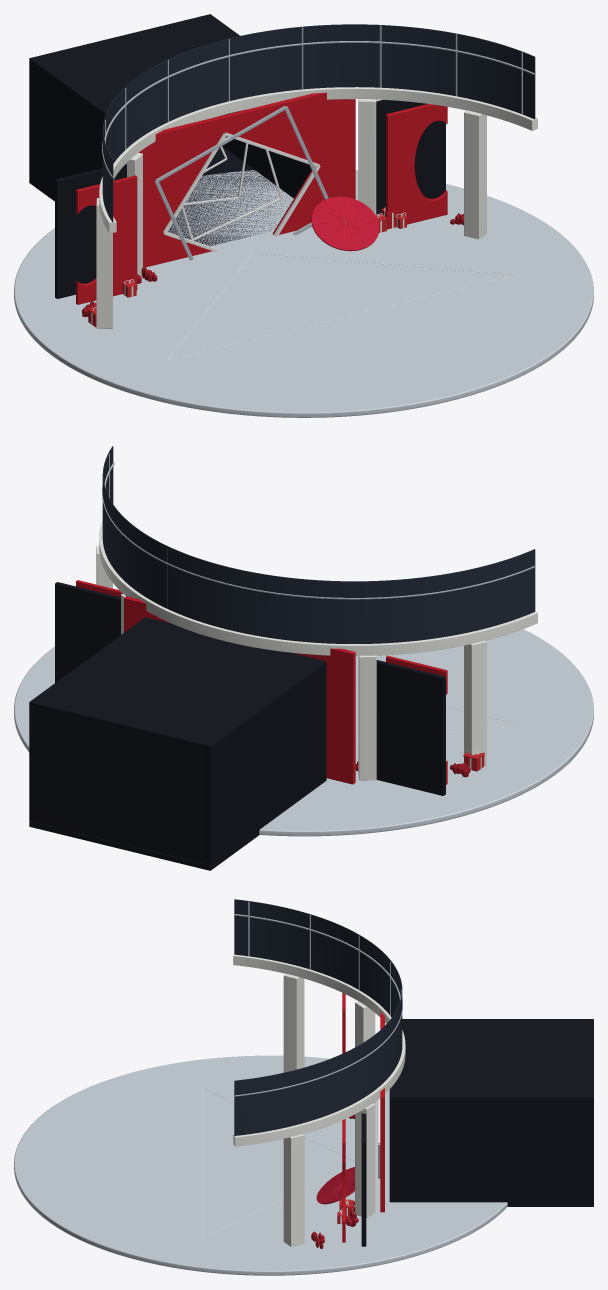
The model's file is R05_twistframe_hall.glb.
3 renders of one model, top to bottom at view 1: azimuth 30°, elevation 25°; view 2: azimuth 150°, elevation 25°; view 3: azimuth 270°, elevation 25°, orthographic. The views are drawn at different scales.
Visible parts, largest first — view 1: finite pale stage slab, upper curved dark glazing, central red facade with real opening, tunnel upper dark return, tunnel left return, white curved upper fascia, inferred continuous tunnel floor, right red screen, left dark bay return, left red screen, right dark bay return, tilted crimson circular disc (+7 smaller); view 2: finite pale stage slab, upper curved dark glazing, tunnel upper dark return, tunnel distant dark stop, tunnel left return, left dark bay return, white curved upper fascia, central red facade with real opening, right dark bay return, white pier -59, white pier -33, inferred continuous tunnel floor (+2 smaller); view 3: finite pale stage slab, tunnel right return, upper curved dark glazing, tunnel upper dark return, white curved upper fascia, white pier +59, white pier -59, white pier +33, tilted crimson circular disc, upper narrow glazing rail, right dark bay return, white pier -33 (+2 smaller).
Boxes of the visible parts, x1,y1,x2,y2 form: finite pale stage slab: (14,170,593,417); upper curved dark glazing: (102,24,535,222); central red facade with real opening: (139,92,355,267); tunnel upper dark return: (29,14,242,116); tunnel left return: (29,60,105,195); white curved upper fascia: (99,87,537,233); inferred continuous tunnel floor: (29,146,291,246); right red screen: (386,104,447,228); left dark bay return: (55,164,126,298); left red screen: (76,175,137,304); right dark bay return: (376,100,445,214); tilted crimson circular disc: (311,196,379,251); finite pale stage slab: (14,629,593,836); upper curved dark glazing: (102,446,535,643); tunnel upper dark return: (29,617,326,747); tunnel distant dark stop: (34,706,205,863); tunnel left return: (206,663,326,865); left dark bay return: (376,660,445,795); white curved upper fascia: (99,521,537,655); central red facade with real opening: (124,596,355,784); right dark bay return: (55,582,120,682); white pier -59: (464,640,486,765); white pier -33: (358,655,376,780); inferred continuous tunnel floor: (29,821,259,870); finite pale stage slab: (14,1055,507,1275); tunnel right return: (389,1098,593,1202); upper curved dark glazing: (234,899,402,1135); tunnel upper dark return: (389,1019,593,1098); white curved upper fascia: (233,954,405,1146); white pier +59: (283,1134,304,1246); white pier -59: (283,973,304,1072); white pier +33: (355,1103,375,1217); tilted crimson circular disc: (316,1167,354,1204); upper narrow glazing rail: (234,914,402,1096); right dark bay return: (361,1113,366,1246); white pier -33: (355,1001,375,1103).
Size of the model in its own units: 23 by 8.84 by 26.1.
